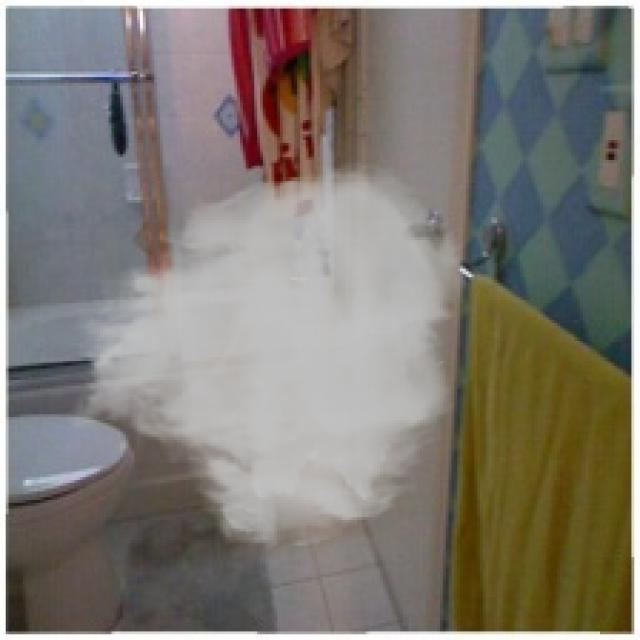smoke: (63, 160, 471, 551)
